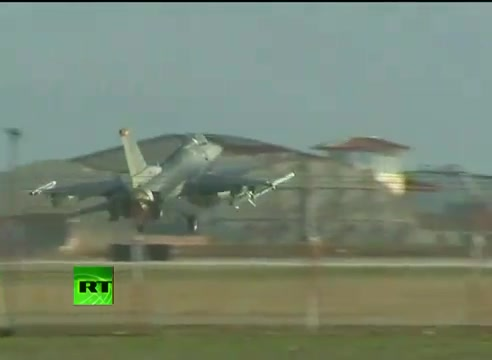aeroplane: (31, 128, 296, 234)
